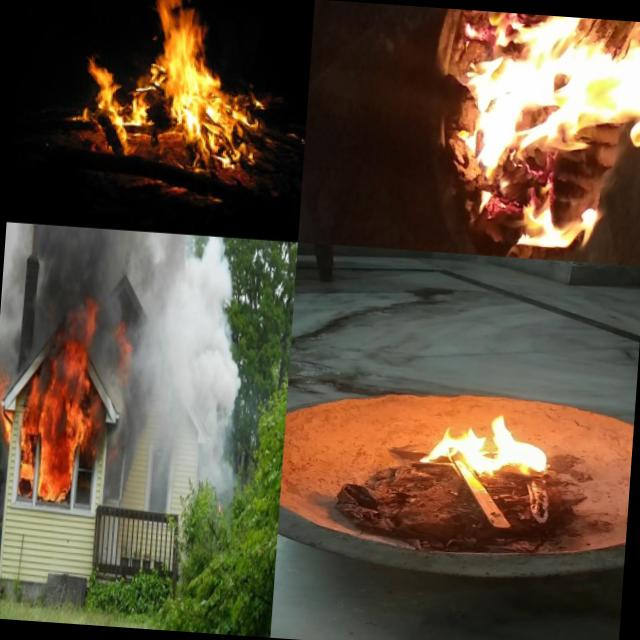fire: (448, 0, 640, 183), (81, 0, 273, 165), (406, 390, 561, 490), (15, 366, 98, 499), (61, 299, 103, 369), (104, 319, 134, 386), (0, 373, 17, 447)
smoke: (114, 230, 264, 500), (0, 221, 115, 330), (84, 386, 142, 504)
